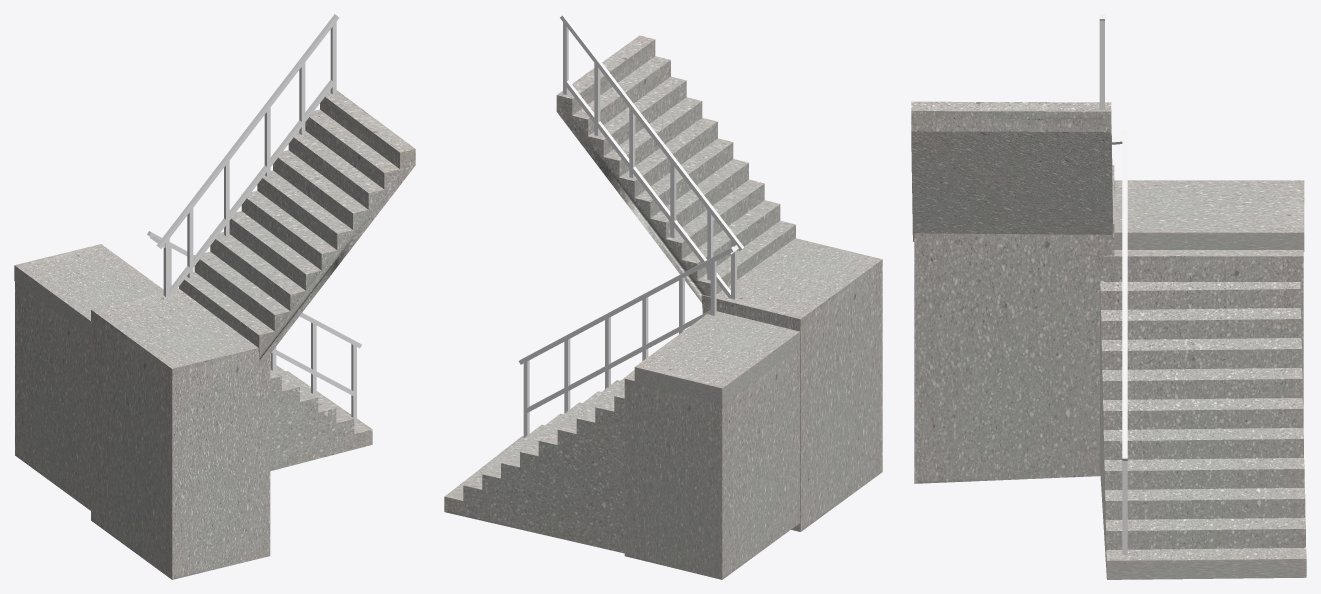
The picture shows the model from 3 angles, left to right: view 1: azimuth 30°, elevation 25°; view 2: azimuth 150°, elevation 25°; view 3: azimuth 270°, elevation 25°; orthographic projection. The views are drawn at different scales.
Visible parts, largest first — view 1: Box1157, StraightStair003, Box1156, Box1175, StraightStair002, Box1172, Box1173, Box1164; view 2: Box1156, Box1157, StraightStair003, StraightStair002, Box1175, Box1172, Box1173, Box1164, Box1165; view 3: StraightStair002, Box1157, StraightStair003, Box1175, Box1156, Box1164, Box1158, Box1171.
Part boxes in pixels (left/top/right/bottom): Box1157: left=91, top=288, right=270, bottom=579; StraightStair003: left=179, top=90, right=415, bottom=368; Box1156: left=15, top=281, right=90, bottom=510; Box1175: left=14, top=244, right=163, bottom=336; StraightStair002: left=270, top=361, right=372, bottom=471; Box1172: left=156, top=14, right=339, bottom=248; Box1173: left=167, top=79, right=335, bottom=296; Box1164: left=147, top=231, right=361, bottom=348; Box1156: left=624, top=348, right=799, bottom=579; Box1157: left=701, top=238, right=882, bottom=531; StraightStair003: left=556, top=35, right=795, bottom=302; StraightStair002: left=444, top=370, right=634, bottom=553; Box1175: left=634, top=311, right=799, bottom=404; Box1172: left=560, top=14, right=744, bottom=250; Box1173: left=566, top=80, right=730, bottom=298; Box1164: left=518, top=246, right=735, bottom=364; Box1165: left=525, top=310, right=713, bottom=412; StraightStair002: left=1099, top=281, right=1306, bottom=579; Box1157: left=914, top=165, right=1114, bottom=483; StraightStair003: left=911, top=101, right=1112, bottom=241; Box1175: left=1114, top=180, right=1304, bottom=251; Box1156: left=1103, top=250, right=1303, bottom=428; Box1164: left=1122, top=130, right=1127, bottom=460; Box1158: left=1122, top=461, right=1127, bottom=555; Box1171: left=1099, top=21, right=1104, bottom=109.
Size of the model in its own units: 117 by 181 by 117.
2 materials, 1 textured.
